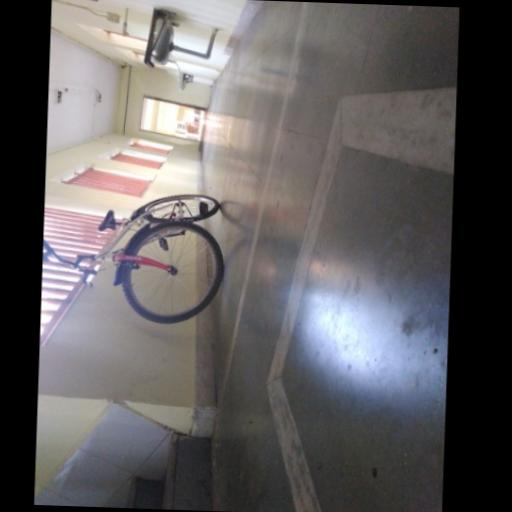stairs: (128, 434, 211, 510)
